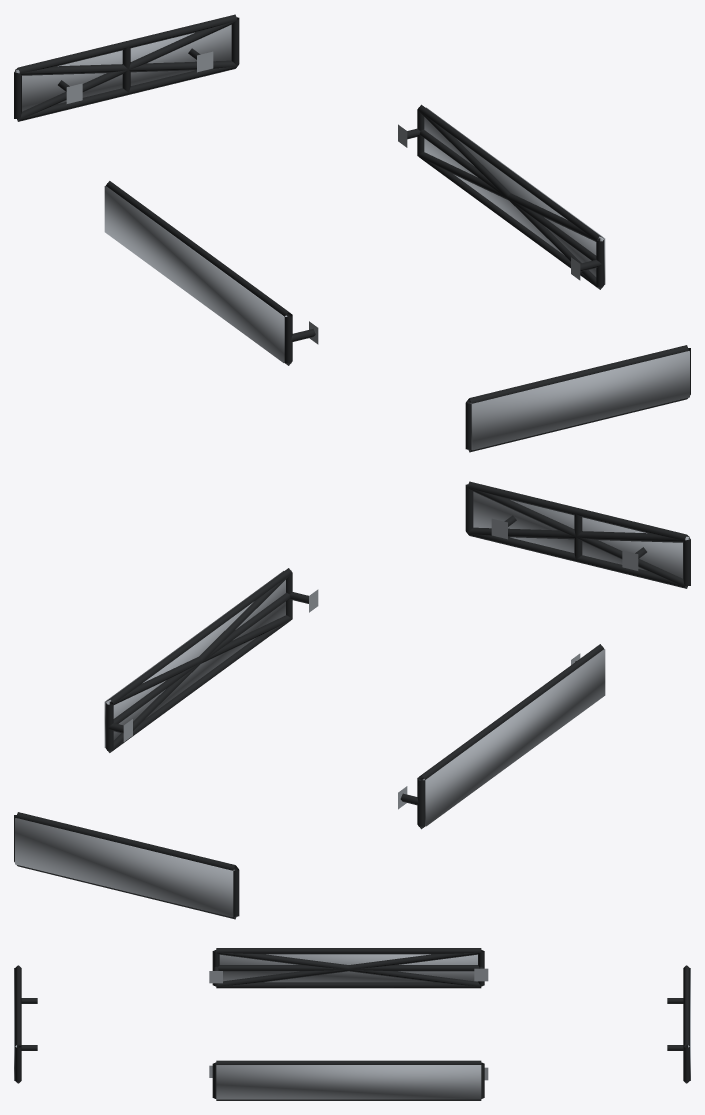
Rendered from bancroft_patamar_protecao.glb.
The picture shows the model from 3 angles, top to bottom: view 1: azimuth 30°, elevation 25°; view 2: azimuth 150°, elevation 25°; view 3: azimuth 270°, elevation 25°; orthographic projection. The views are drawn at different scales.
Parts seen in each view (by area): view 1: Protection_front_Level3_Details, Protection_left_Level3_Details, Protection_rear_Level1_Details, Protection_rear_Level3_Details, Protection_right_Level1_Details, Protection_right_Level2_Details, Protection_right_Level3_Details, Protection_rear_Level2_Details, Protection_front_Level1_Details, Protection_left_Level1_Details; view 2: Protection_rear_Level3_Details, Protection_left_Level3_Details, Protection_front_Level1_Details, Protection_front_Level3_Details, Protection_right_Level1_Details, Protection_right_Level2_Details, Protection_right_Level3_Details, Protection_front_Level2_Details, Protection_rear_Level1_Details, Protection_left_Level1_Details; view 3: Protection_right_Level3_Details, Protection_left_Level2_Details, Protection_left_Level1_Details, Protection_left_Level3_Details, Protection_right_Level1_Details, Protection_rear_Level1_Details, Protection_front_Level1_Details.
Part boxes in pixels (bbox=[...]): Protection_front_Level3_Details: bbox=[470, 351, 689, 450]; Protection_left_Level3_Details: bbox=[104, 185, 287, 362]; Protection_rear_Level1_Details: bbox=[14, 14, 239, 121]; Protection_rear_Level3_Details: bbox=[15, 25, 231, 111]; Protection_right_Level1_Details: bbox=[398, 104, 604, 289]; Protection_right_Level2_Details: bbox=[417, 111, 603, 289]; Protection_right_Level3_Details: bbox=[424, 107, 605, 284]; Protection_rear_Level2_Details: bbox=[16, 20, 237, 120]; Protection_front_Level1_Details: bbox=[465, 345, 690, 452]; Protection_left_Level1_Details: bbox=[106, 181, 318, 365]; Protection_rear_Level3_Details: bbox=[15, 818, 234, 917]; Protection_left_Level3_Details: bbox=[422, 649, 605, 826]; Protection_front_Level1_Details: bbox=[465, 481, 690, 588]; Protection_front_Level3_Details: bbox=[473, 492, 689, 578]; Protection_right_Level1_Details: bbox=[105, 568, 318, 752]; Protection_right_Level2_Details: bbox=[106, 573, 292, 752]; Protection_right_Level3_Details: bbox=[104, 571, 285, 747]; Protection_front_Level2_Details: bbox=[467, 487, 688, 587]; Protection_rear_Level1_Details: bbox=[14, 812, 239, 919]; Protection_left_Level1_Details: bbox=[398, 644, 603, 829]; Protection_right_Level3_Details: bbox=[216, 1065, 481, 1099]; Protection_left_Level2_Details: bbox=[216, 950, 480, 986]; Protection_left_Level1_Details: bbox=[209, 948, 488, 988]; Protection_left_Level3_Details: bbox=[219, 954, 477, 982]; Protection_right_Level1_Details: bbox=[209, 1060, 488, 1100]; Protection_rear_Level1_Details: bbox=[667, 965, 689, 1083]; Protection_front_Level1_Details: bbox=[15, 965, 37, 1083].
Size of the model in its own units: 2.19 by 0.354 by 5.39.
1 material, 1 textured.
